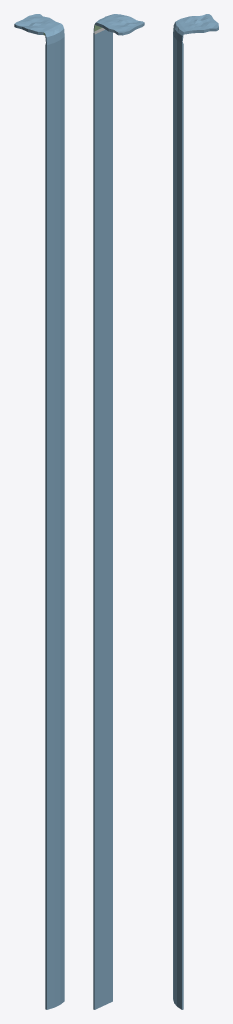
File: Water.dae
The picture shows the model from 3 angles, left to right: view 1: azimuth 30°, elevation 25°; view 2: azimuth 210°, elevation 25°; view 3: azimuth 270°, elevation 25°; orthographic projection.
Visible parts, largest first — view 1: Water; view 2: Water; view 3: Water.
Boxes of the visible parts, x1,y1,x2,y2 form: Water: (14, 14, 64, 1009); Water: (93, 14, 144, 1009); Water: (173, 14, 218, 1009).
Size of the model in its own units: 6.45 by 6.94 by 164.
